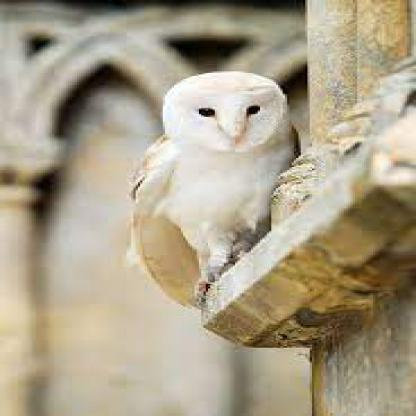owl: (104, 11, 414, 414)
